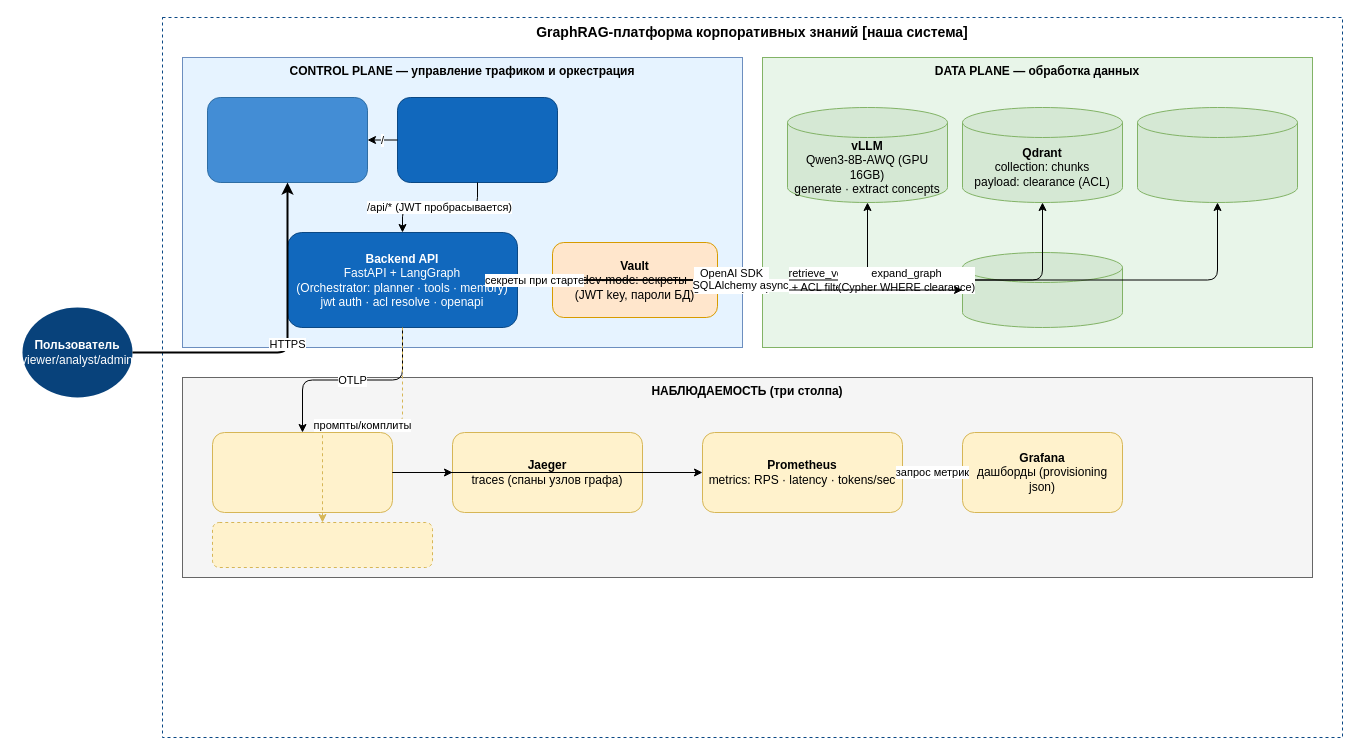
Some shapes in this 1360 by 755 pixel diagram are drawn without their labels. Here are the shapes that lost their labels. From the top down, the centre of each, then its label:
At (x=287, y=139): "Frontend SPA Vite + React + TS login · chat (SSE) · admin".
At (x=477, y=139): "Traefik API Gateway / LB TLS · маршруты · rate-limit".
At (x=1217, y=154): "Neo4j Community граф: Act · Authority · Topic · Concept clearance на узлах".
At (x=1042, y=290): "PostgreSQL 16 users · roles · sessions · audit_log".
At (x=302, y=472): "OTel Collector OTLP: трейсы · метрики · логи".
At (x=322, y=545): "Langfuse [внешний] трейсы промптов (URL из .env, интеграция отключаемо)".
